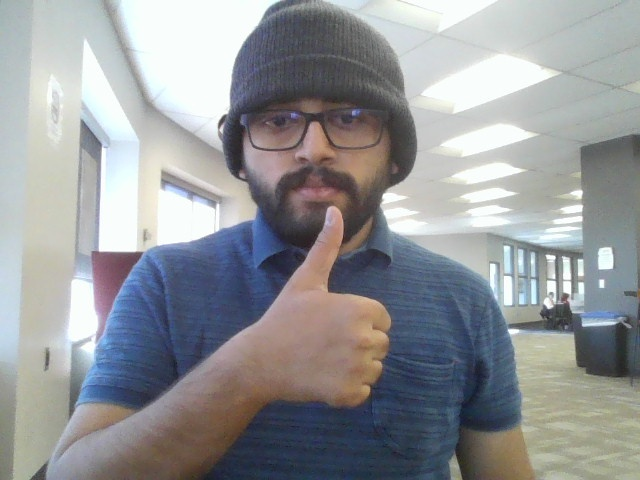confirm: (247, 202, 414, 420)
